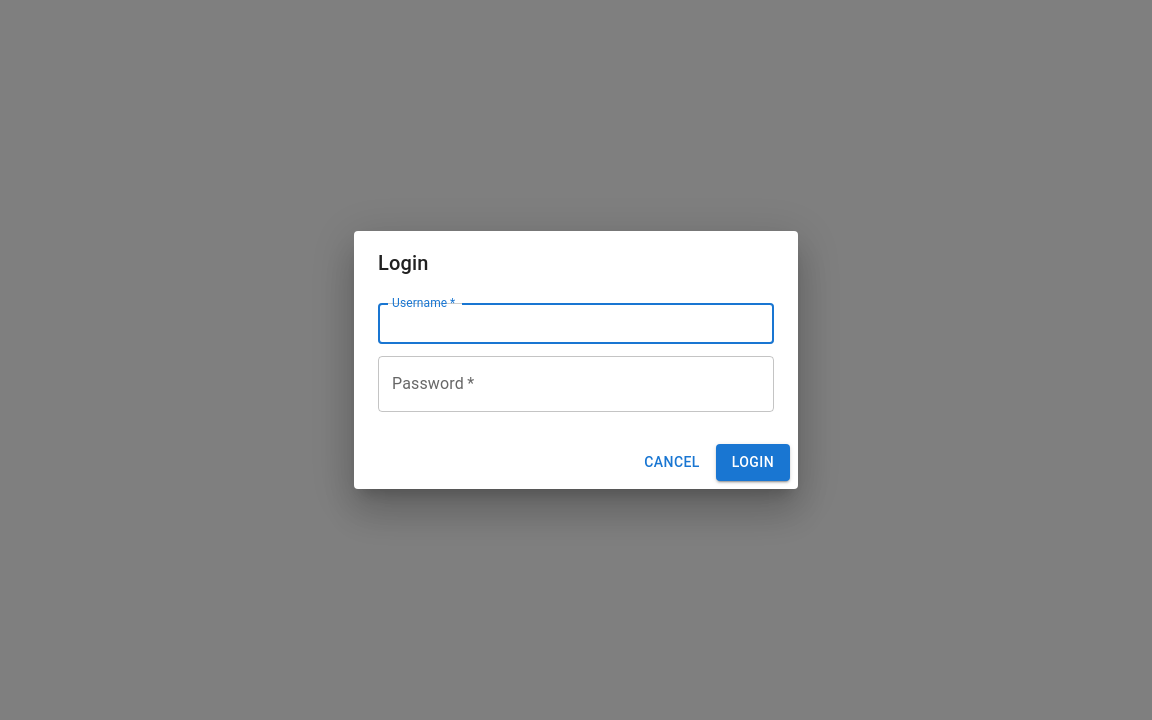
Test case: LoginDialog › disables login button while loading
Step 1. Type "user" into the field labelled "Username *" → x=576, y=324, box 378,303 -> 774,344
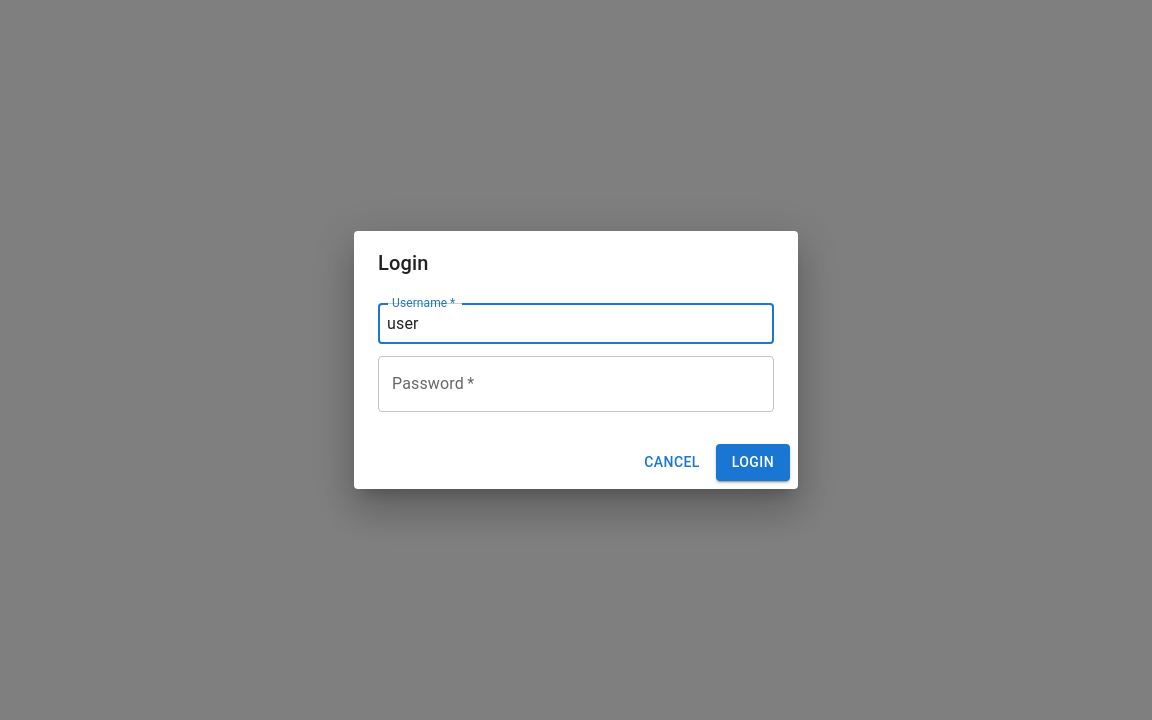
Step 2. Type "pass" into the password field labelled "Password *" → x=576, y=384, box 378,356 -> 774,412
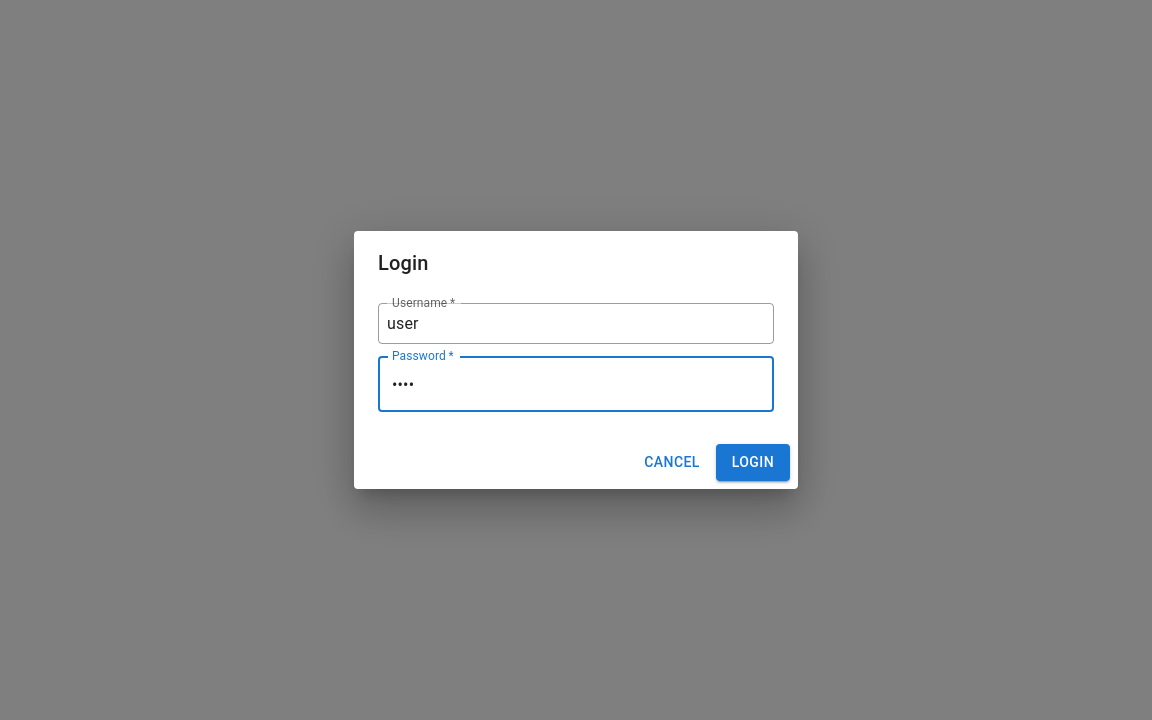
Step 3. Click the button "Login" → x=753, y=463, box 716,444 -> 790,481
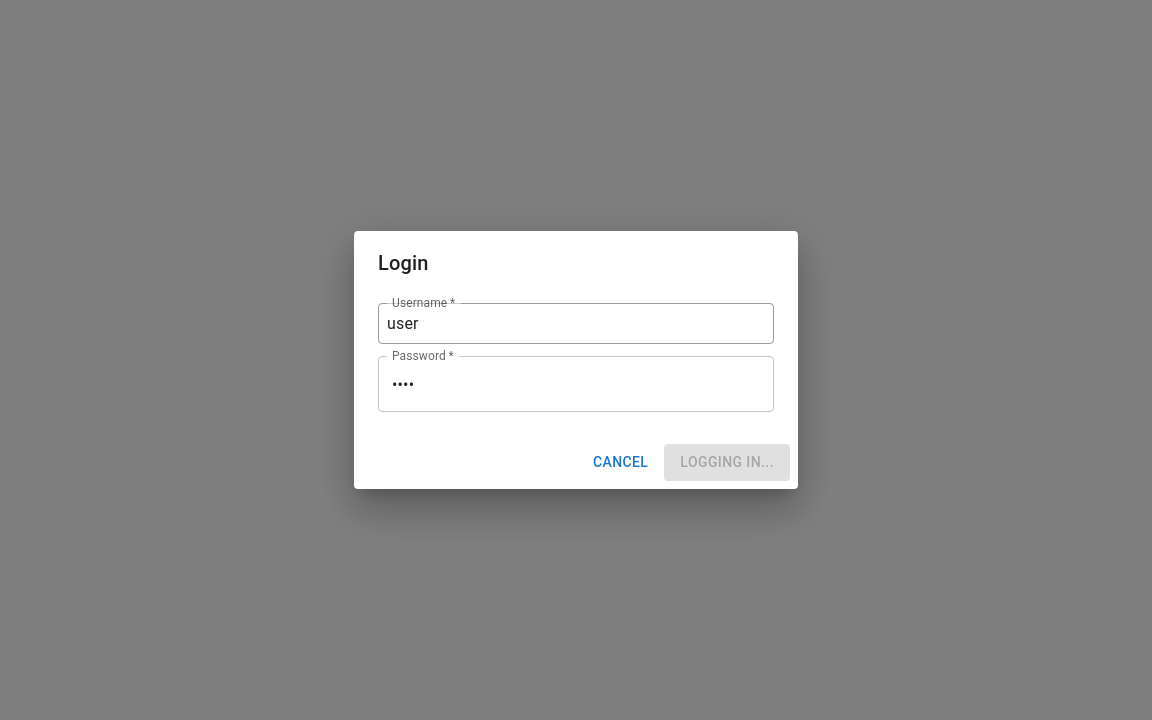
Check: the button "Logging in..." is disabled, box 664,444 -> 790,481
